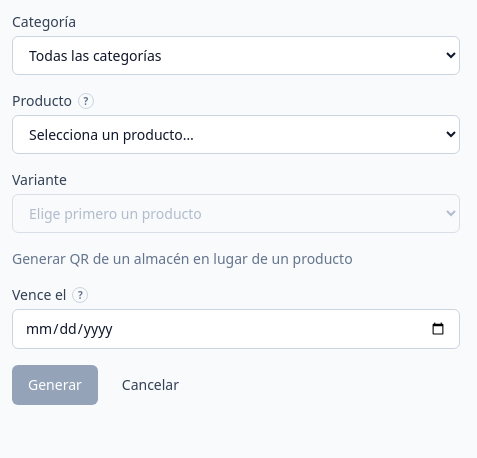
Test: QrForm › disables a variant option that already has an active QR (OUI-010), and never submits it
Select "Fridge" in the dropdown labelled "Producto" at (236,134), box [12,115,460,154]
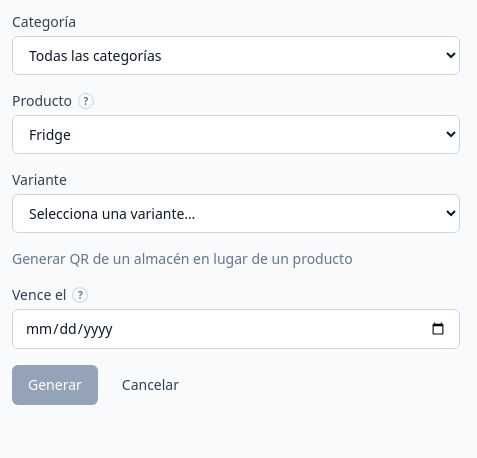
Select "FRIDGE-A (ya tiene QR activo)" in the dropdown labelled "Variante" at (236,214), box [12,194,460,233]
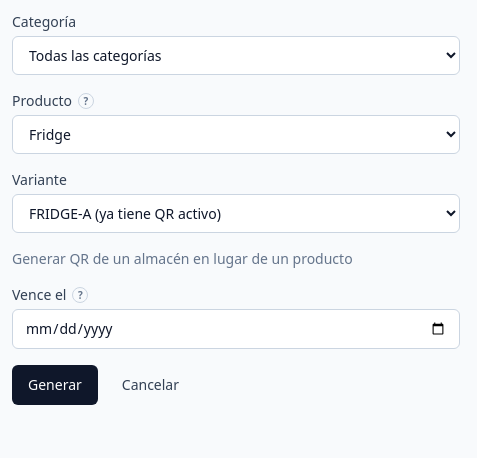
Click the button "Generar" at (55,385), box [12,365,98,405]
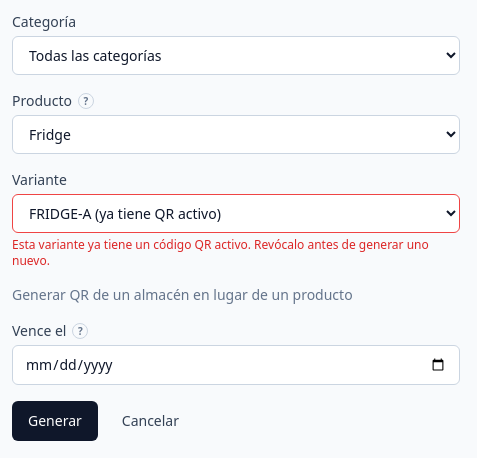
Now the text "ya tiene un código QR activo" is shown, box [12,236,429,269]
